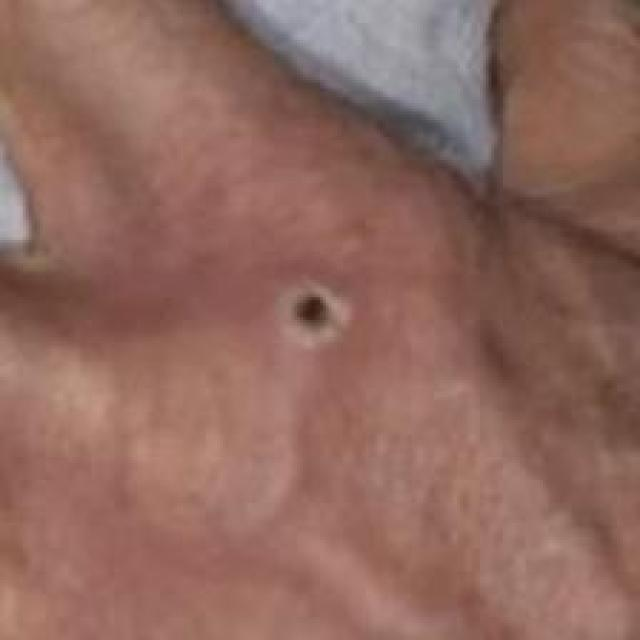monkeypox: (122, 140, 495, 611)
